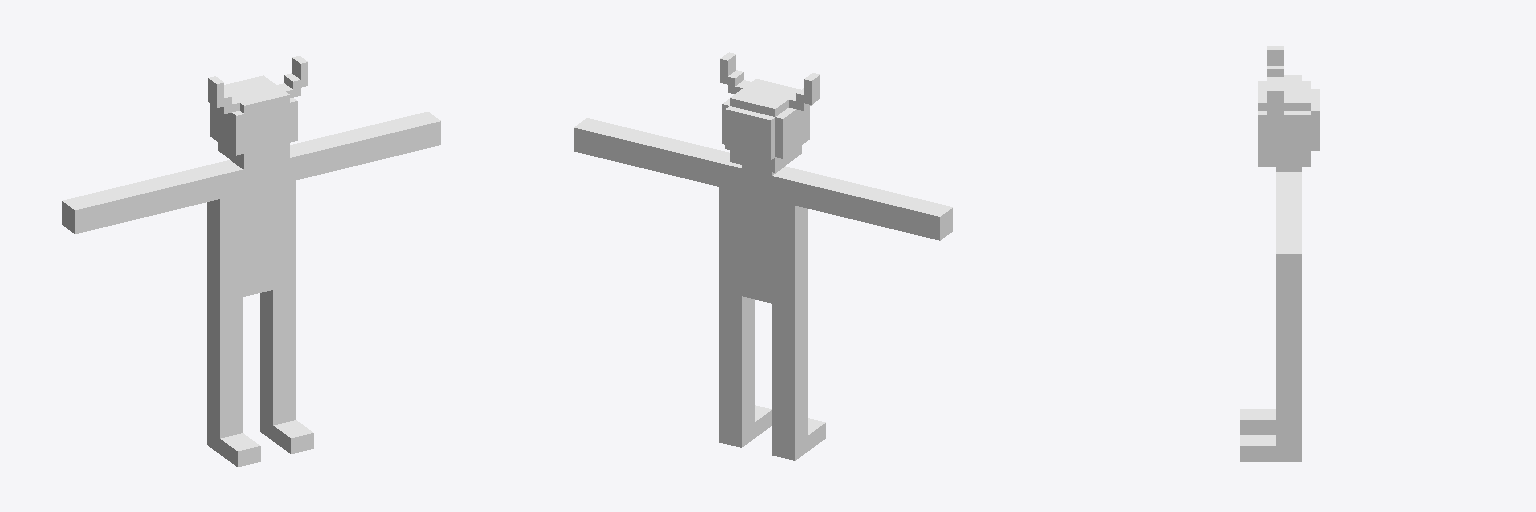
The model's file is char-demon.obj.
3 renders of one model, left to right at view 1: azimuth 30°, elevation 25°; view 2: azimuth 150°, elevation 25°; view 3: azimuth 270°, elevation 25°, orthographic.
Visible parts, largest first — view 1: char-demon; view 2: char-demon; view 3: char-demon.
Part boxes in pixels (x1,y1,x2,y2): char-demon: (62, 56, 440, 466); char-demon: (574, 52, 952, 460); char-demon: (1240, 46, 1319, 461).
Size of the model in its own units: 48 by 47 by 9.